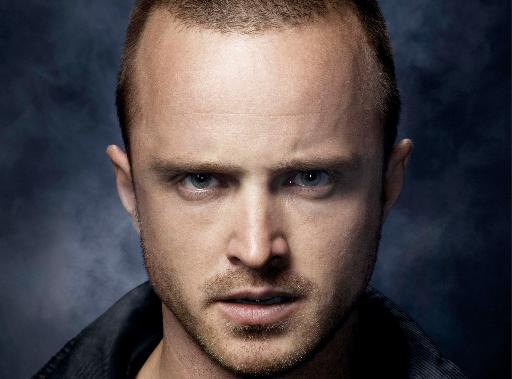left_eye: (280, 169, 337, 195)
left_lip_corner: (298, 289, 310, 307)
right_eye: (173, 169, 231, 195)
right_lip_corner: (205, 293, 224, 308)
